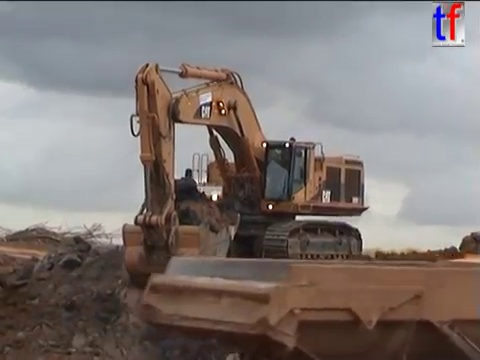excavator: (119, 59, 373, 289)
truck: (137, 246, 480, 360)
